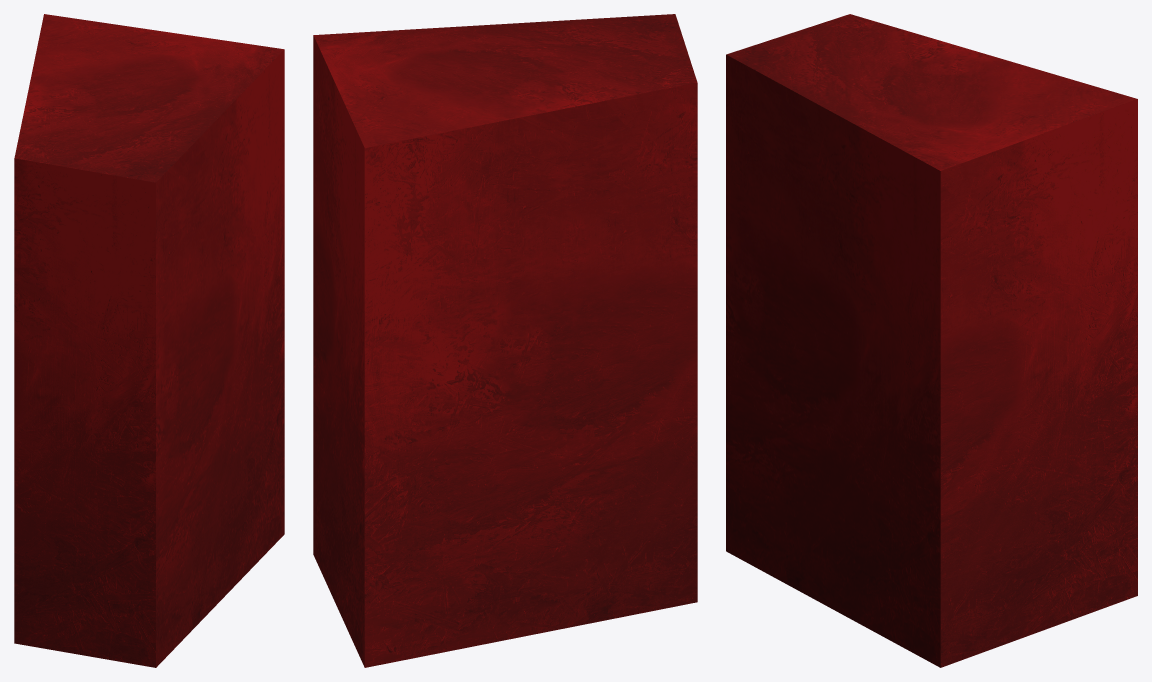
File: rouge1.FBX
The picture shows the model from 3 angles, left to right: view 1: azimuth 30°, elevation 25°; view 2: azimuth 150°, elevation 25°; view 3: azimuth 270°, elevation 25°; orthographic projection. The views are drawn at different scales.
Visible parts, largest first — view 1: Ligne025; view 2: Ligne025; view 3: Ligne025.
Part boxes in pixels (bbox=[...]): Ligne025: bbox=[14, 14, 284, 667]; Ligne025: bbox=[313, 14, 697, 667]; Ligne025: bbox=[726, 14, 1137, 667].
Size of the model in its own units: 6.23 by 9.18 by 6.9.
1 material, 1 textured.
